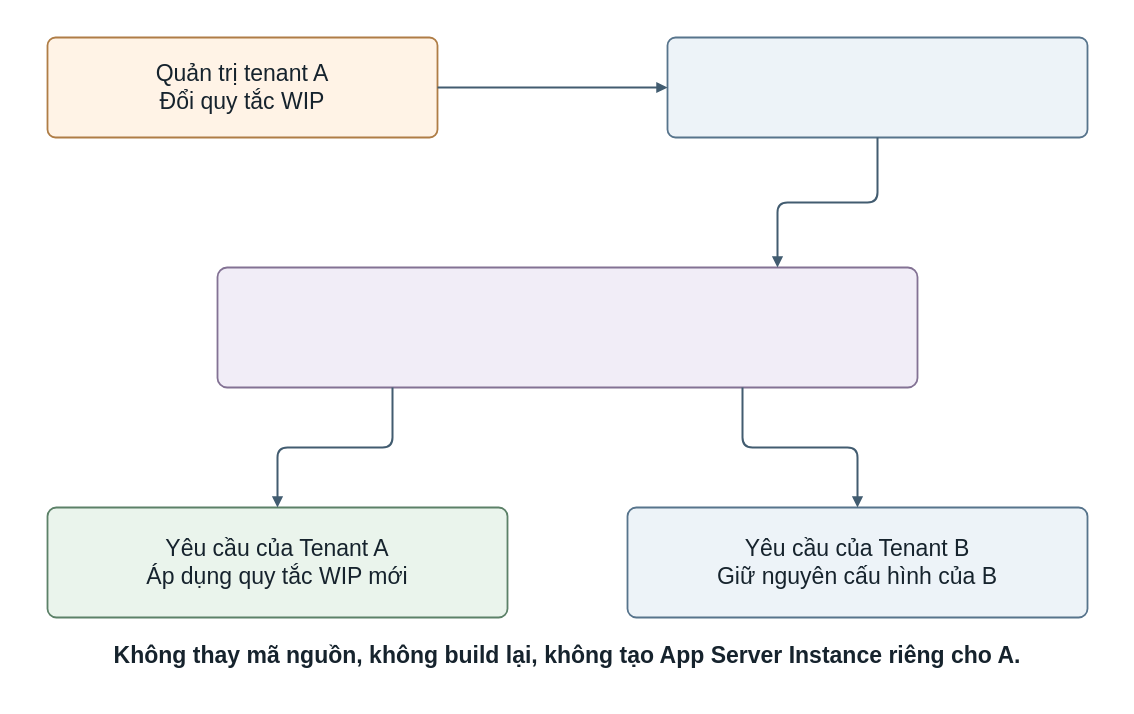
This 1134x714 diagram has some shape labels left out. The centre of each missing label's shape, as x and y in pixels:
"Kiểm tra quyền và giá trị Lưu config A, tăng version" goes at point 877,87.
"Một App Server Instance đang chạy Đọc Metadata theo TenantContext tại runtime" goes at point 567,327.
